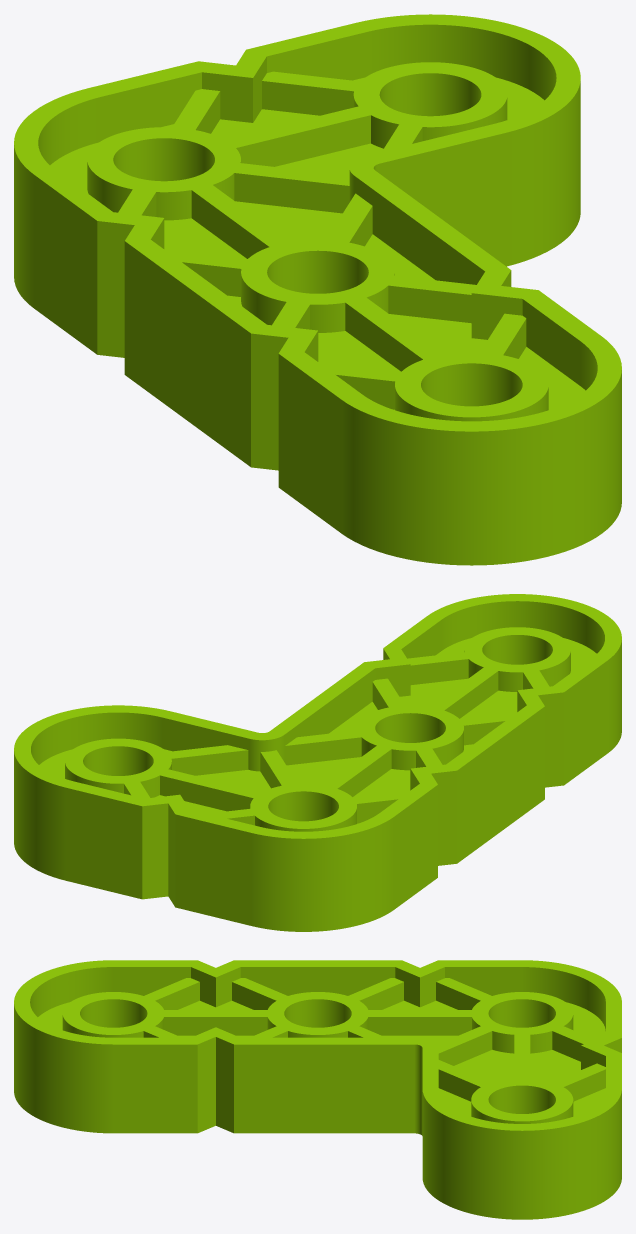
3 views of the same model, one above another, from view 1: azimuth 30°, elevation 25°; view 2: azimuth 150°, elevation 25°; view 3: azimuth 270°, elevation 25° (orthographic). The views are drawn at different scales.
Parts seen in each view (by area): view 1: 228-2500-145; view 2: 228-2500-145; view 3: 228-2500-145.
Part boxes in pixels (x1,y1,x2,y2): 228-2500-145: (14, 14, 621, 565); 228-2500-145: (14, 594, 621, 931); 228-2500-145: (14, 960, 621, 1219).
Size of the model in its own units: 0.0251 by 0.0061 by 0.0378.
